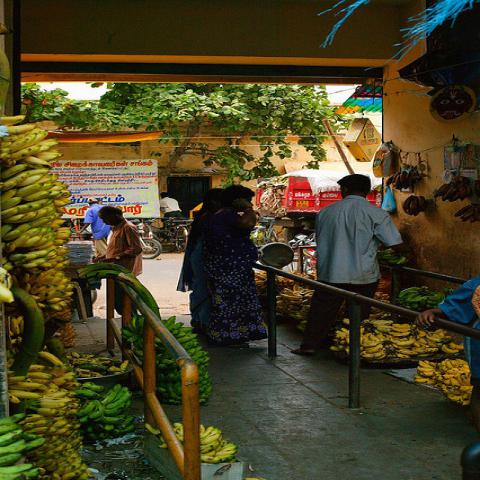motorcycle: (134, 223, 164, 260)
